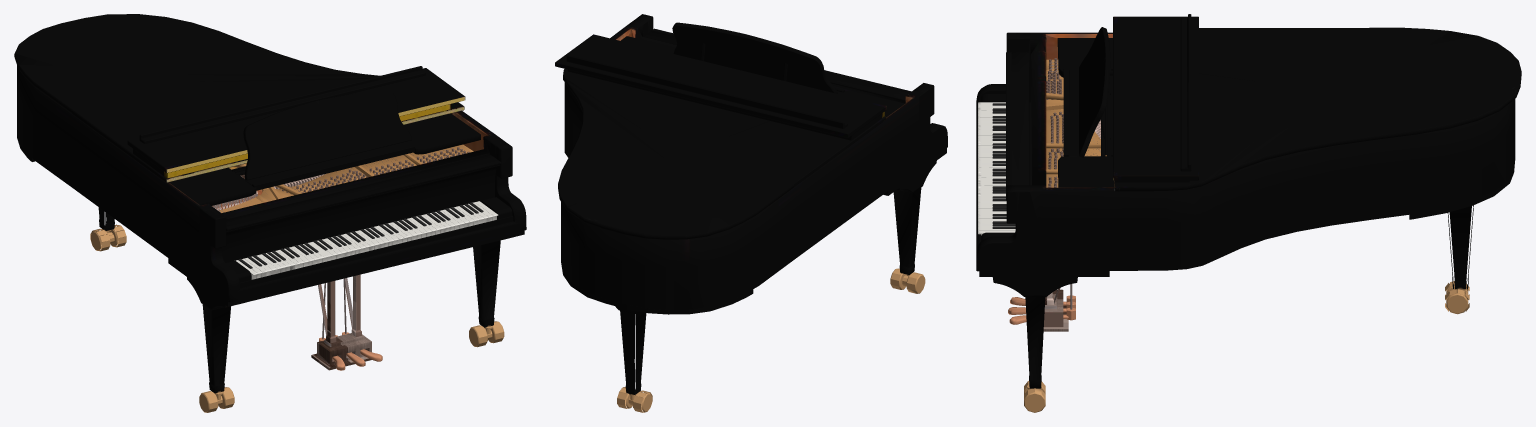
File: grand_piano_c7.glb
The picture shows the model from 3 angles, left to right: view 1: azimuth 30°, elevation 25°; view 2: azimuth 150°, elevation 25°; view 3: azimuth 270°, elevation 25°; orthographic projection. The views are drawn at different scales.
Parts seen in each view (by area): view 1: lid, case, fallboard, music_desk, case_front, keys_white, legs, lyre, plate, casters, keys_black, strings (+1 smaller); view 2: lid, case, music_desk, legs, case_front, fallboard, casters; view 3: lid, case, case_front, legs, fallboard, music_desk, keys_white, plate, keys_black, casters, strings, lyre (+1 smaller).
Part boxes in pixels (<box>): lid: <box>14,14,465,182</box>; case: <box>17,65,526,302</box>; fallboard: <box>222,155,501,262</box>; music_desk: <box>235,91,411,180</box>; case_front: <box>17,113,524,306</box>; keys_white: <box>236,201,498,279</box>; legs: <box>98,207,500,393</box>; lyre: <box>311,274,371,370</box>; plate: <box>219,144,473,212</box>; casters: <box>90,224,504,412</box>; keys_black: <box>238,202,483,268</box>; strings: <box>212,147,469,212</box>; lid: <box>555,34,886,239</box>; case: <box>561,14,947,309</box>; music_desk: <box>672,22,837,93</box>; legs: <box>615,160,936,394</box>; case_front: <box>561,36,946,314</box>; fallboard: <box>644,28,911,101</box>; casters: <box>617,268,925,412</box>; lid: <box>1113,14,1521,191</box>; case: <box>976,32,1515,271</box>; case_front: <box>979,38,1515,276</box>; legs: <box>992,205,1473,388</box>; fallboard: <box>1006,52,1029,200</box>; music_desk: <box>1079,27,1110,157</box>; keys_white: <box>978,102,1015,235</box>; plate: <box>1046,59,1106,187</box>; keys_black: <box>992,103,1015,228</box>; casters: <box>1024,281,1469,412</box>; strings: <box>1046,58,1100,187</box>; lyre: <box>1043,284,1072,331</box>.
Bounding box in the file's own units: 1.5 × 1.21 × 2.16.
17 materials, 15 textured.
